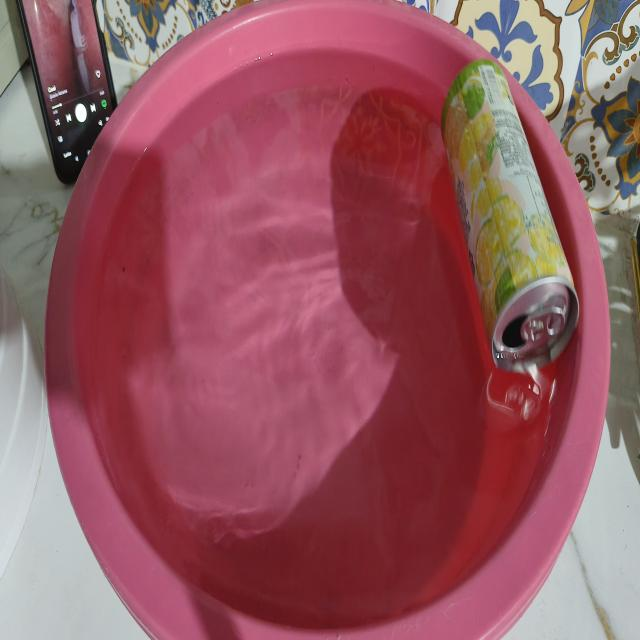Aluminum Can: (406, 22, 622, 400)
